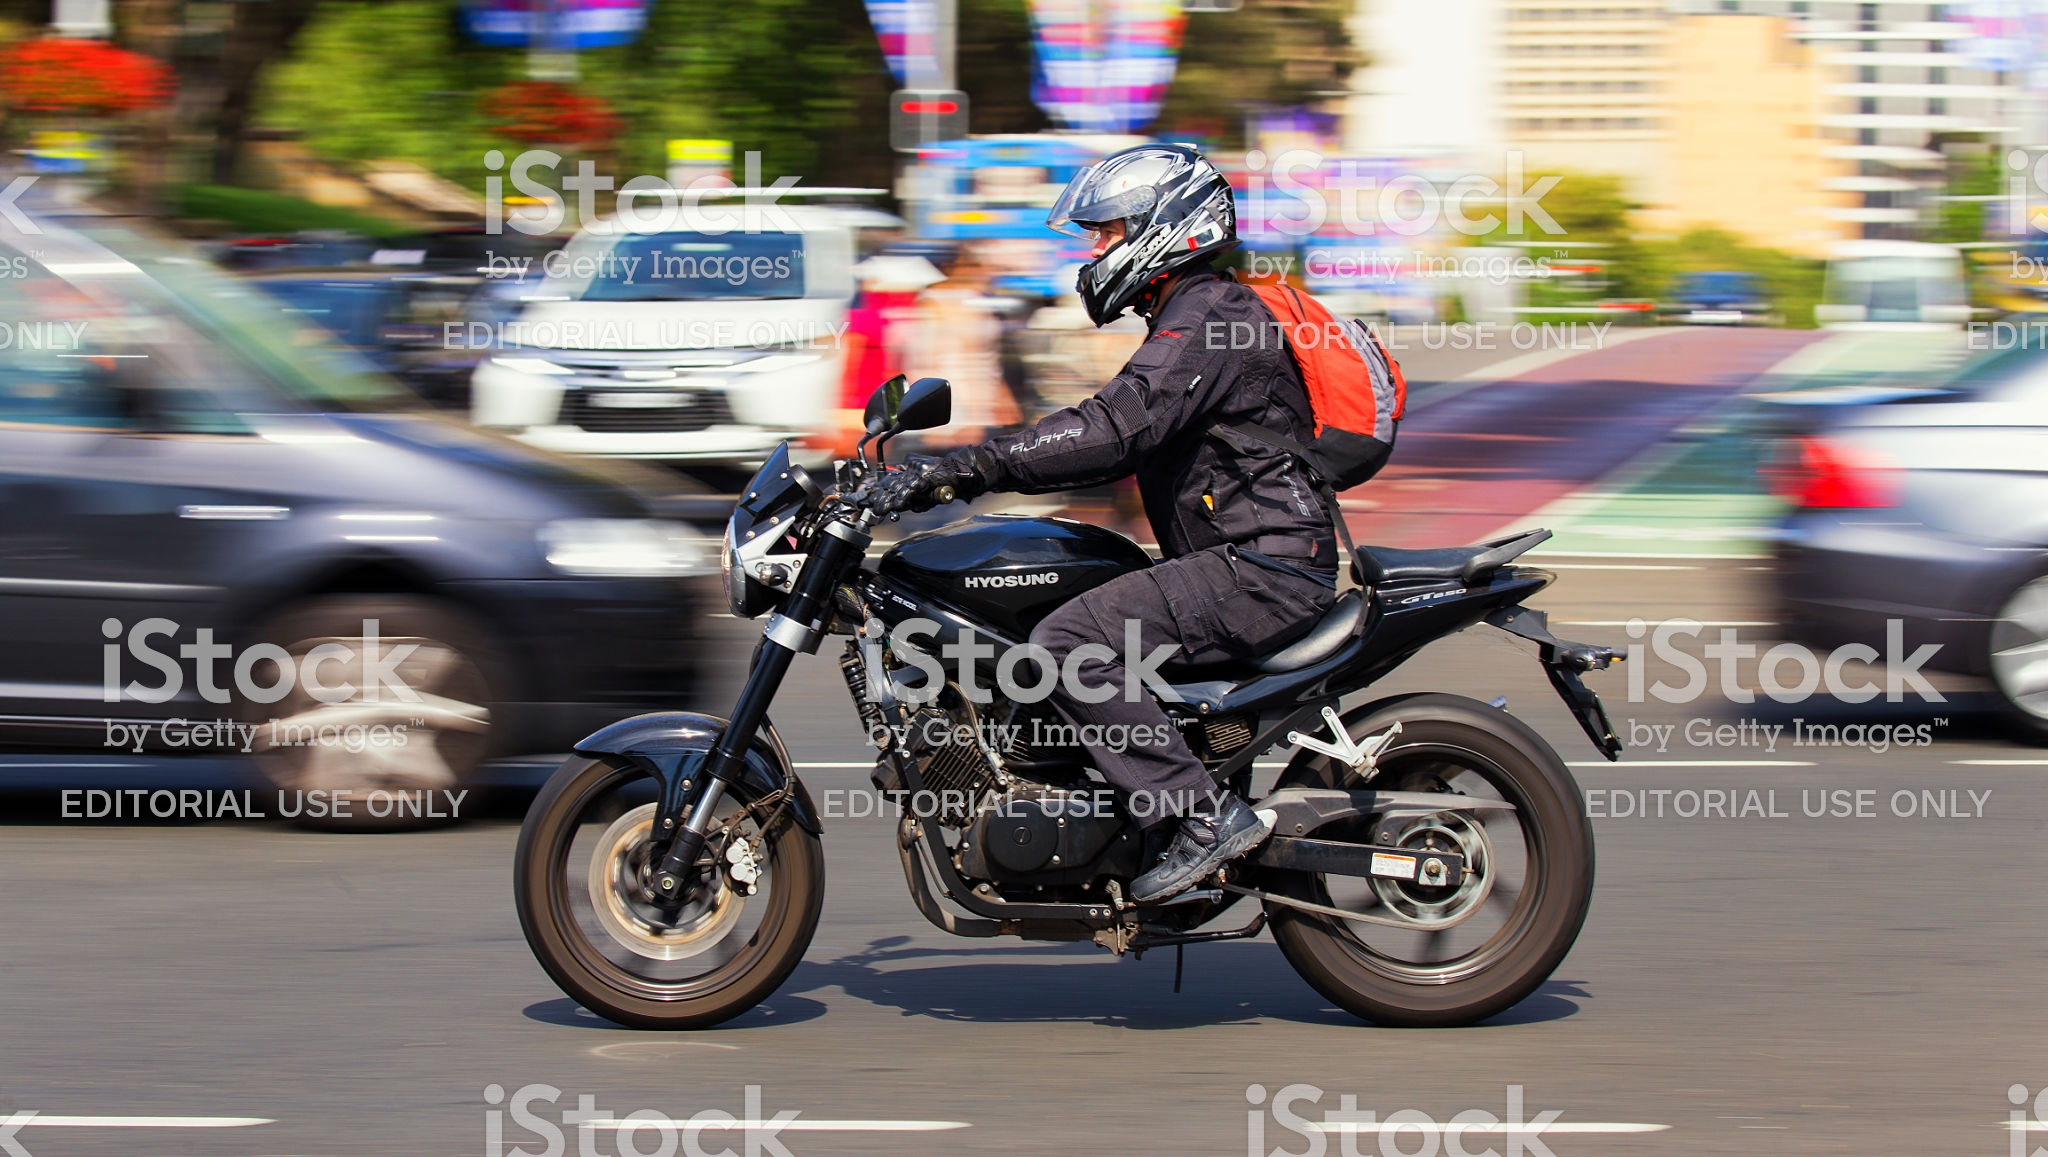helmet: (1049, 150, 1229, 297)
